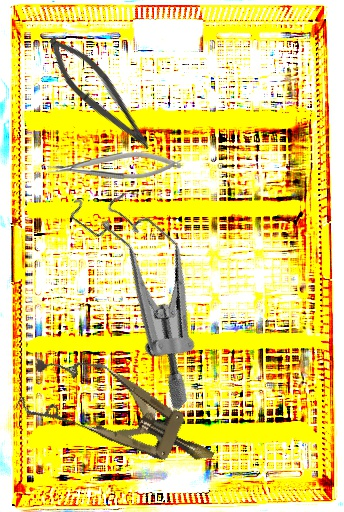Micro Scissor: (35, 28, 166, 158)
Needle Holder: (48, 152, 181, 179)
Speculum: (14, 169, 265, 413), (14, 339, 229, 493)
